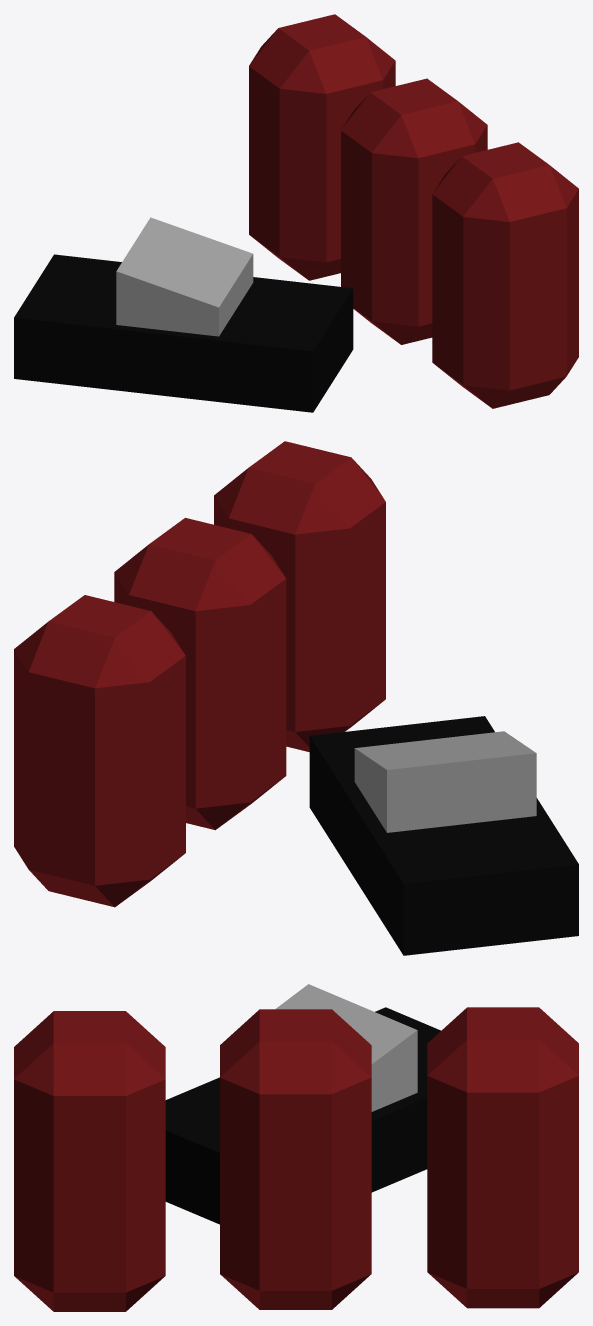
File: gasBunk.glb
3 renders of one model, top to bottom at view 1: azimuth 30°, elevation 25°; view 2: azimuth 150°, elevation 25°; view 3: azimuth 270°, elevation 25°, orthographic. The views are drawn at different scales.
Visible parts, largest first — view 1: Cube.002, Cube.328, Cube, Cube.001, Cube.329; view 2: Cube, Cube.328, Cube.001, Cube.002, Cube.329; view 3: Cube, Cube.001, Cube.002, Cube.328, Cube.329.
Part boxes in pixels (x1,y1,x2,y2): Cube.002: (432, 142, 578, 408); Cube.328: (14, 254, 353, 412); Cube: (249, 14, 395, 280); Cube.001: (341, 78, 487, 344); Cube.329: (116, 217, 253, 336); Cube: (14, 595, 185, 907); Cube.328: (309, 716, 578, 955); Cube.001: (114, 517, 286, 830); Cube.002: (214, 441, 385, 751); Cube.329: (354, 731, 536, 832); Cube: (427, 1007, 578, 1308); Cube.001: (220, 1009, 371, 1309); Cube.002: (14, 1011, 165, 1311); Cube.328: (165, 1007, 440, 1224); Cube.329: (275, 984, 417, 1111).
Bounding box in the file's own units: 7.17 × 3.73 × 7.11.
